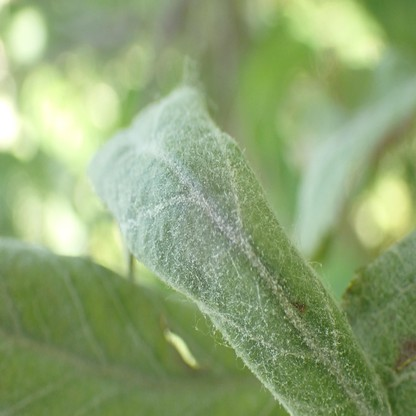powdery_mildew: (87, 86, 393, 416), (341, 229, 416, 415)
